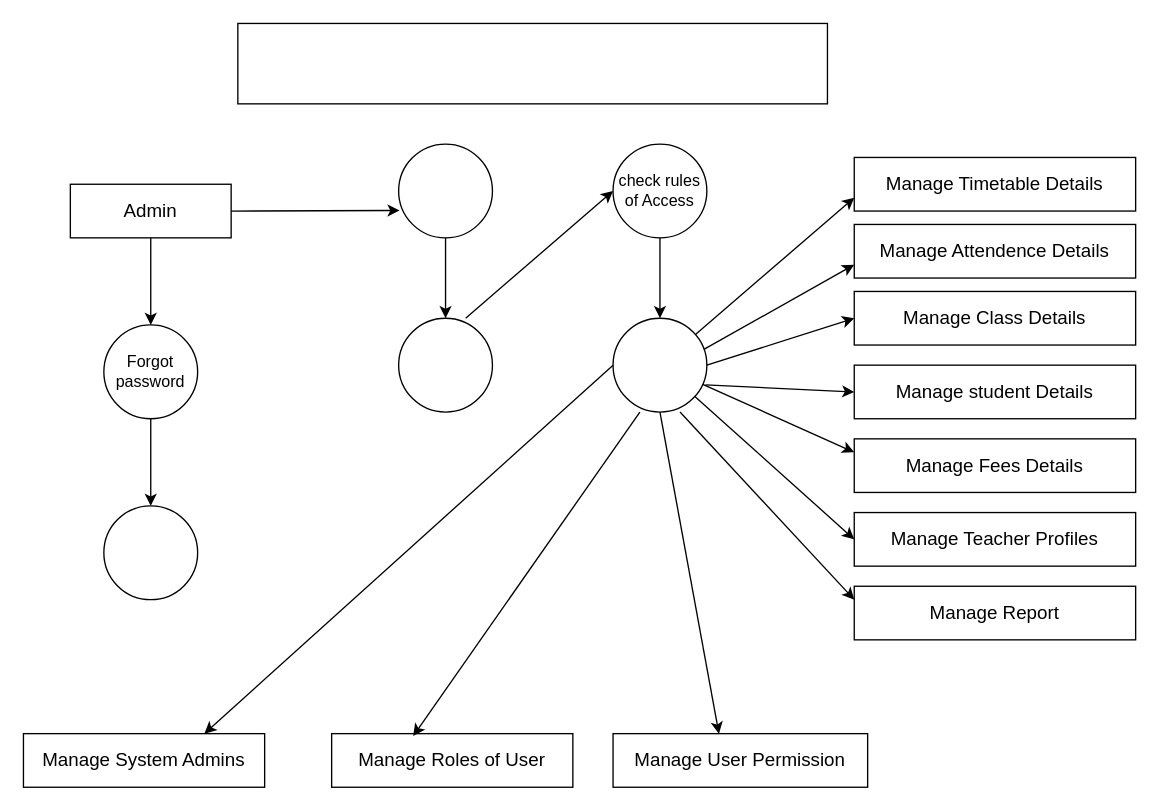
Image size: 1159x811. Some labels were removed from this diagram. The shapes that lost their labels are listed below. From the top down, each one's box as (x1, y1, x2, y2) in pixels, then its label:
(237, 22, 827, 104): STUDENT INFORMATION SYSTEM
(397, 143, 492, 238): Login to system
(397, 317, 492, 412): Check credentials
(612, 317, 707, 412): Manage Modules
(103, 505, 198, 600): send Email to user
